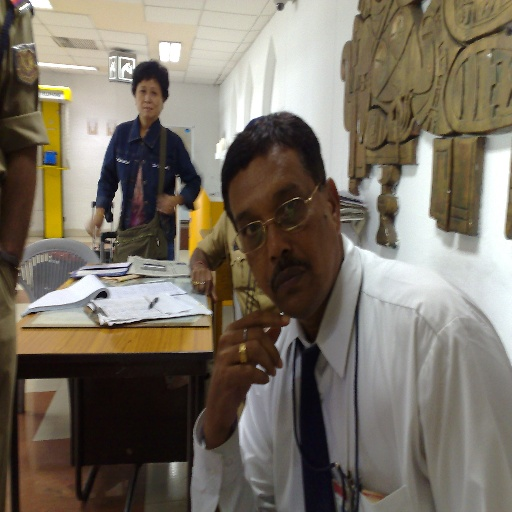hand: (198, 314, 284, 444), (190, 265, 218, 303), (155, 191, 176, 217), (84, 213, 104, 240)
